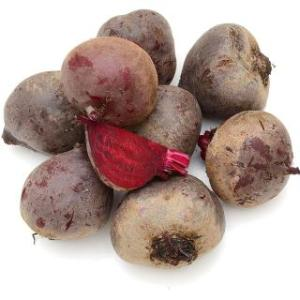beet: (104, 174, 226, 266), (200, 113, 300, 209), (60, 34, 156, 126), (80, 115, 190, 193), (180, 24, 272, 116), (19, 147, 112, 237), (6, 74, 92, 154), (100, 10, 176, 84)
